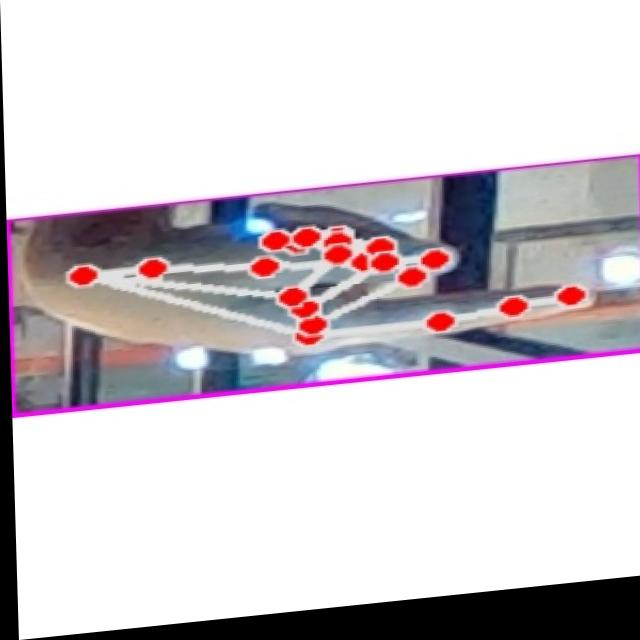G: (29, 191, 601, 390)
